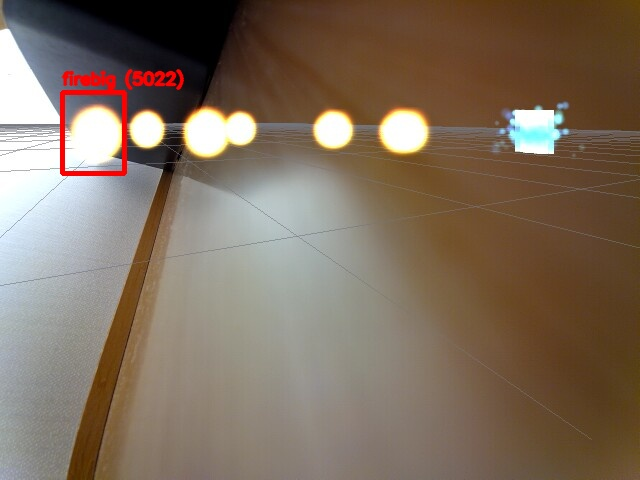firebig: (62, 92, 124, 173)
